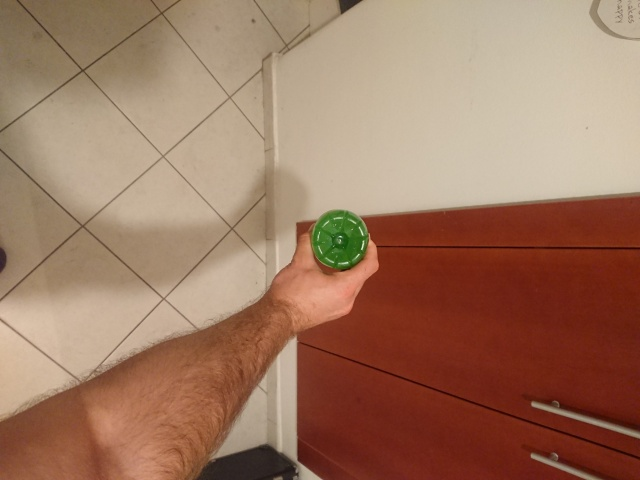Vindi Iso Sport Lemon-Grapefruit 500mL: (309, 208, 371, 272)
